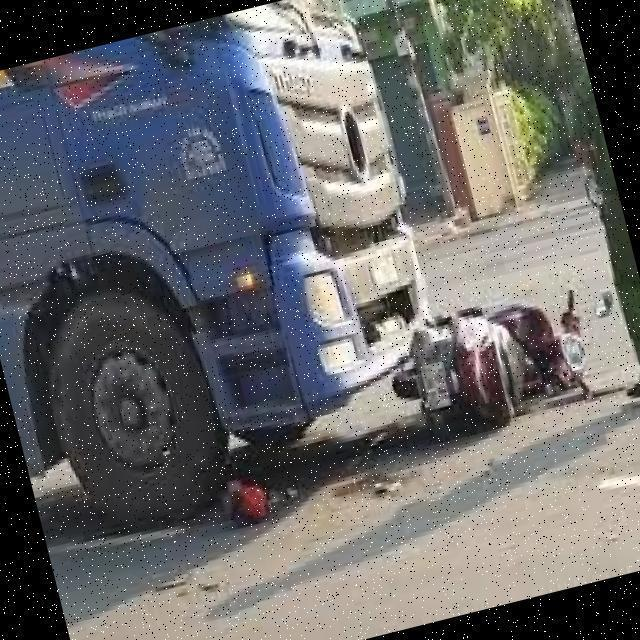accident: (250, 76, 640, 528)
